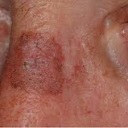Actinic: (6, 30, 66, 98)
